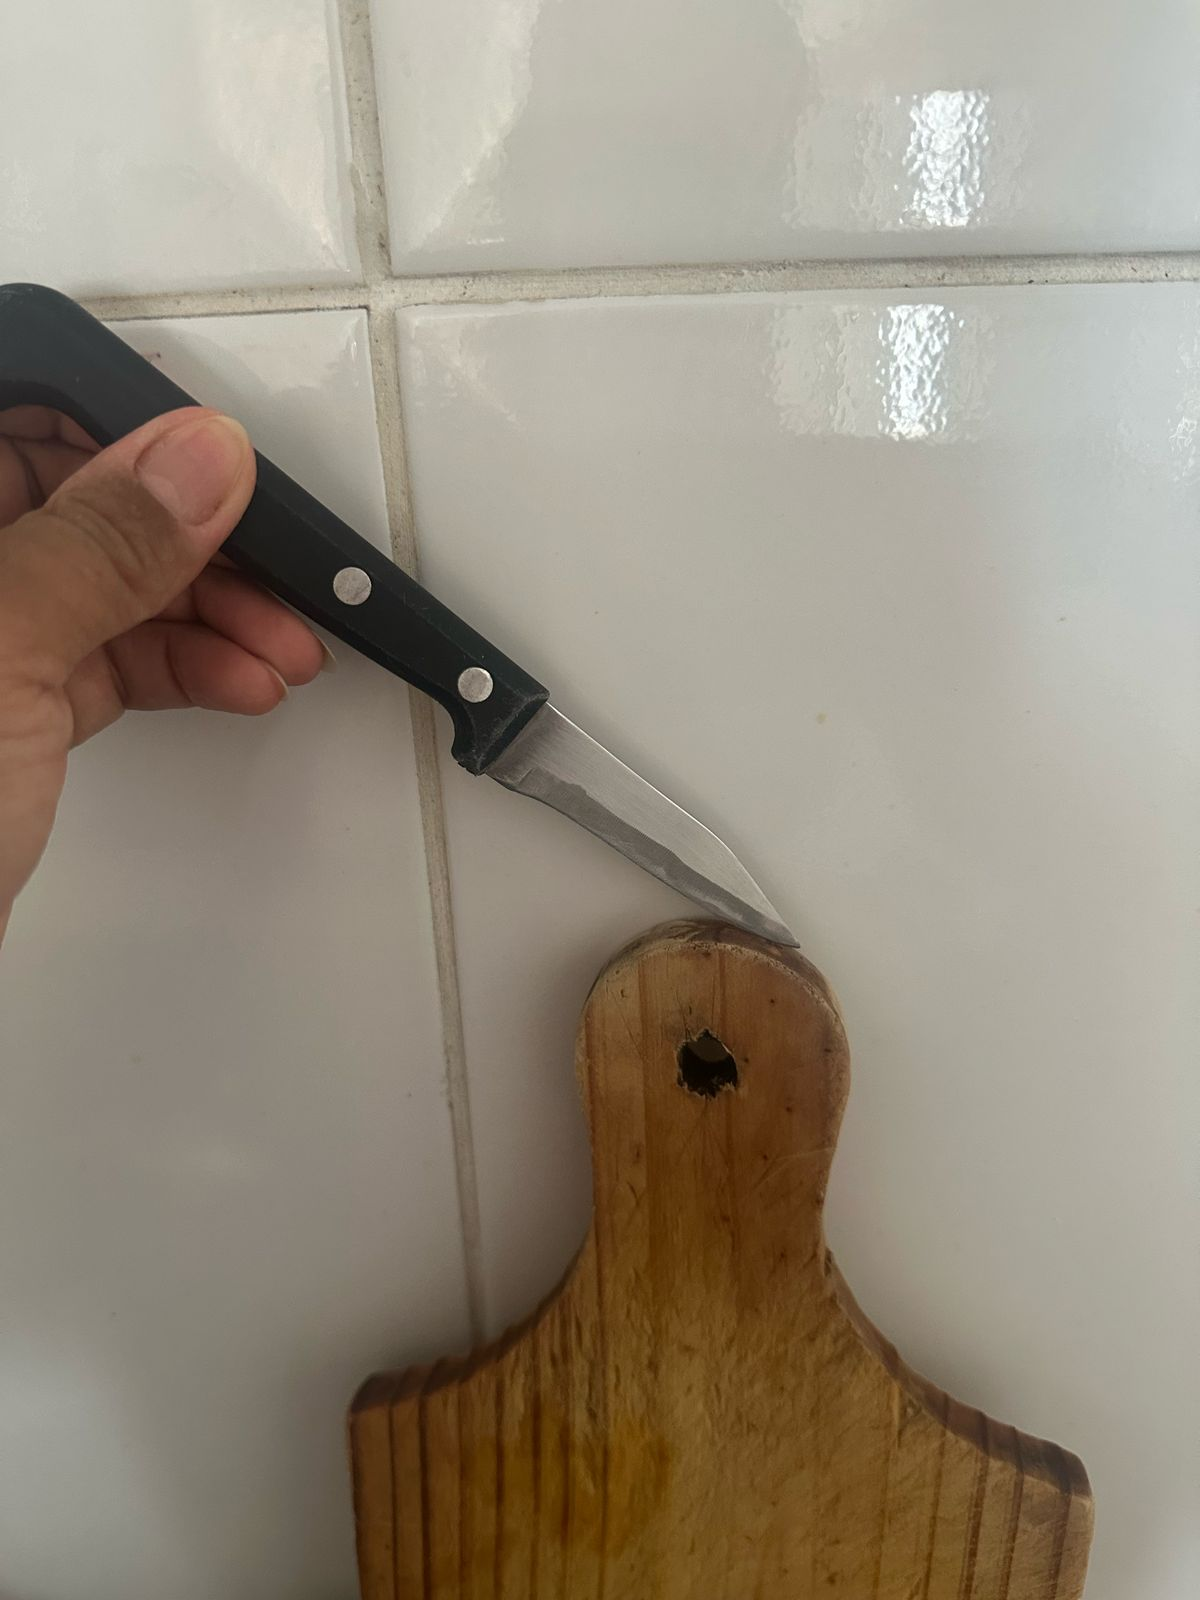faca: (16, 282, 807, 955)
